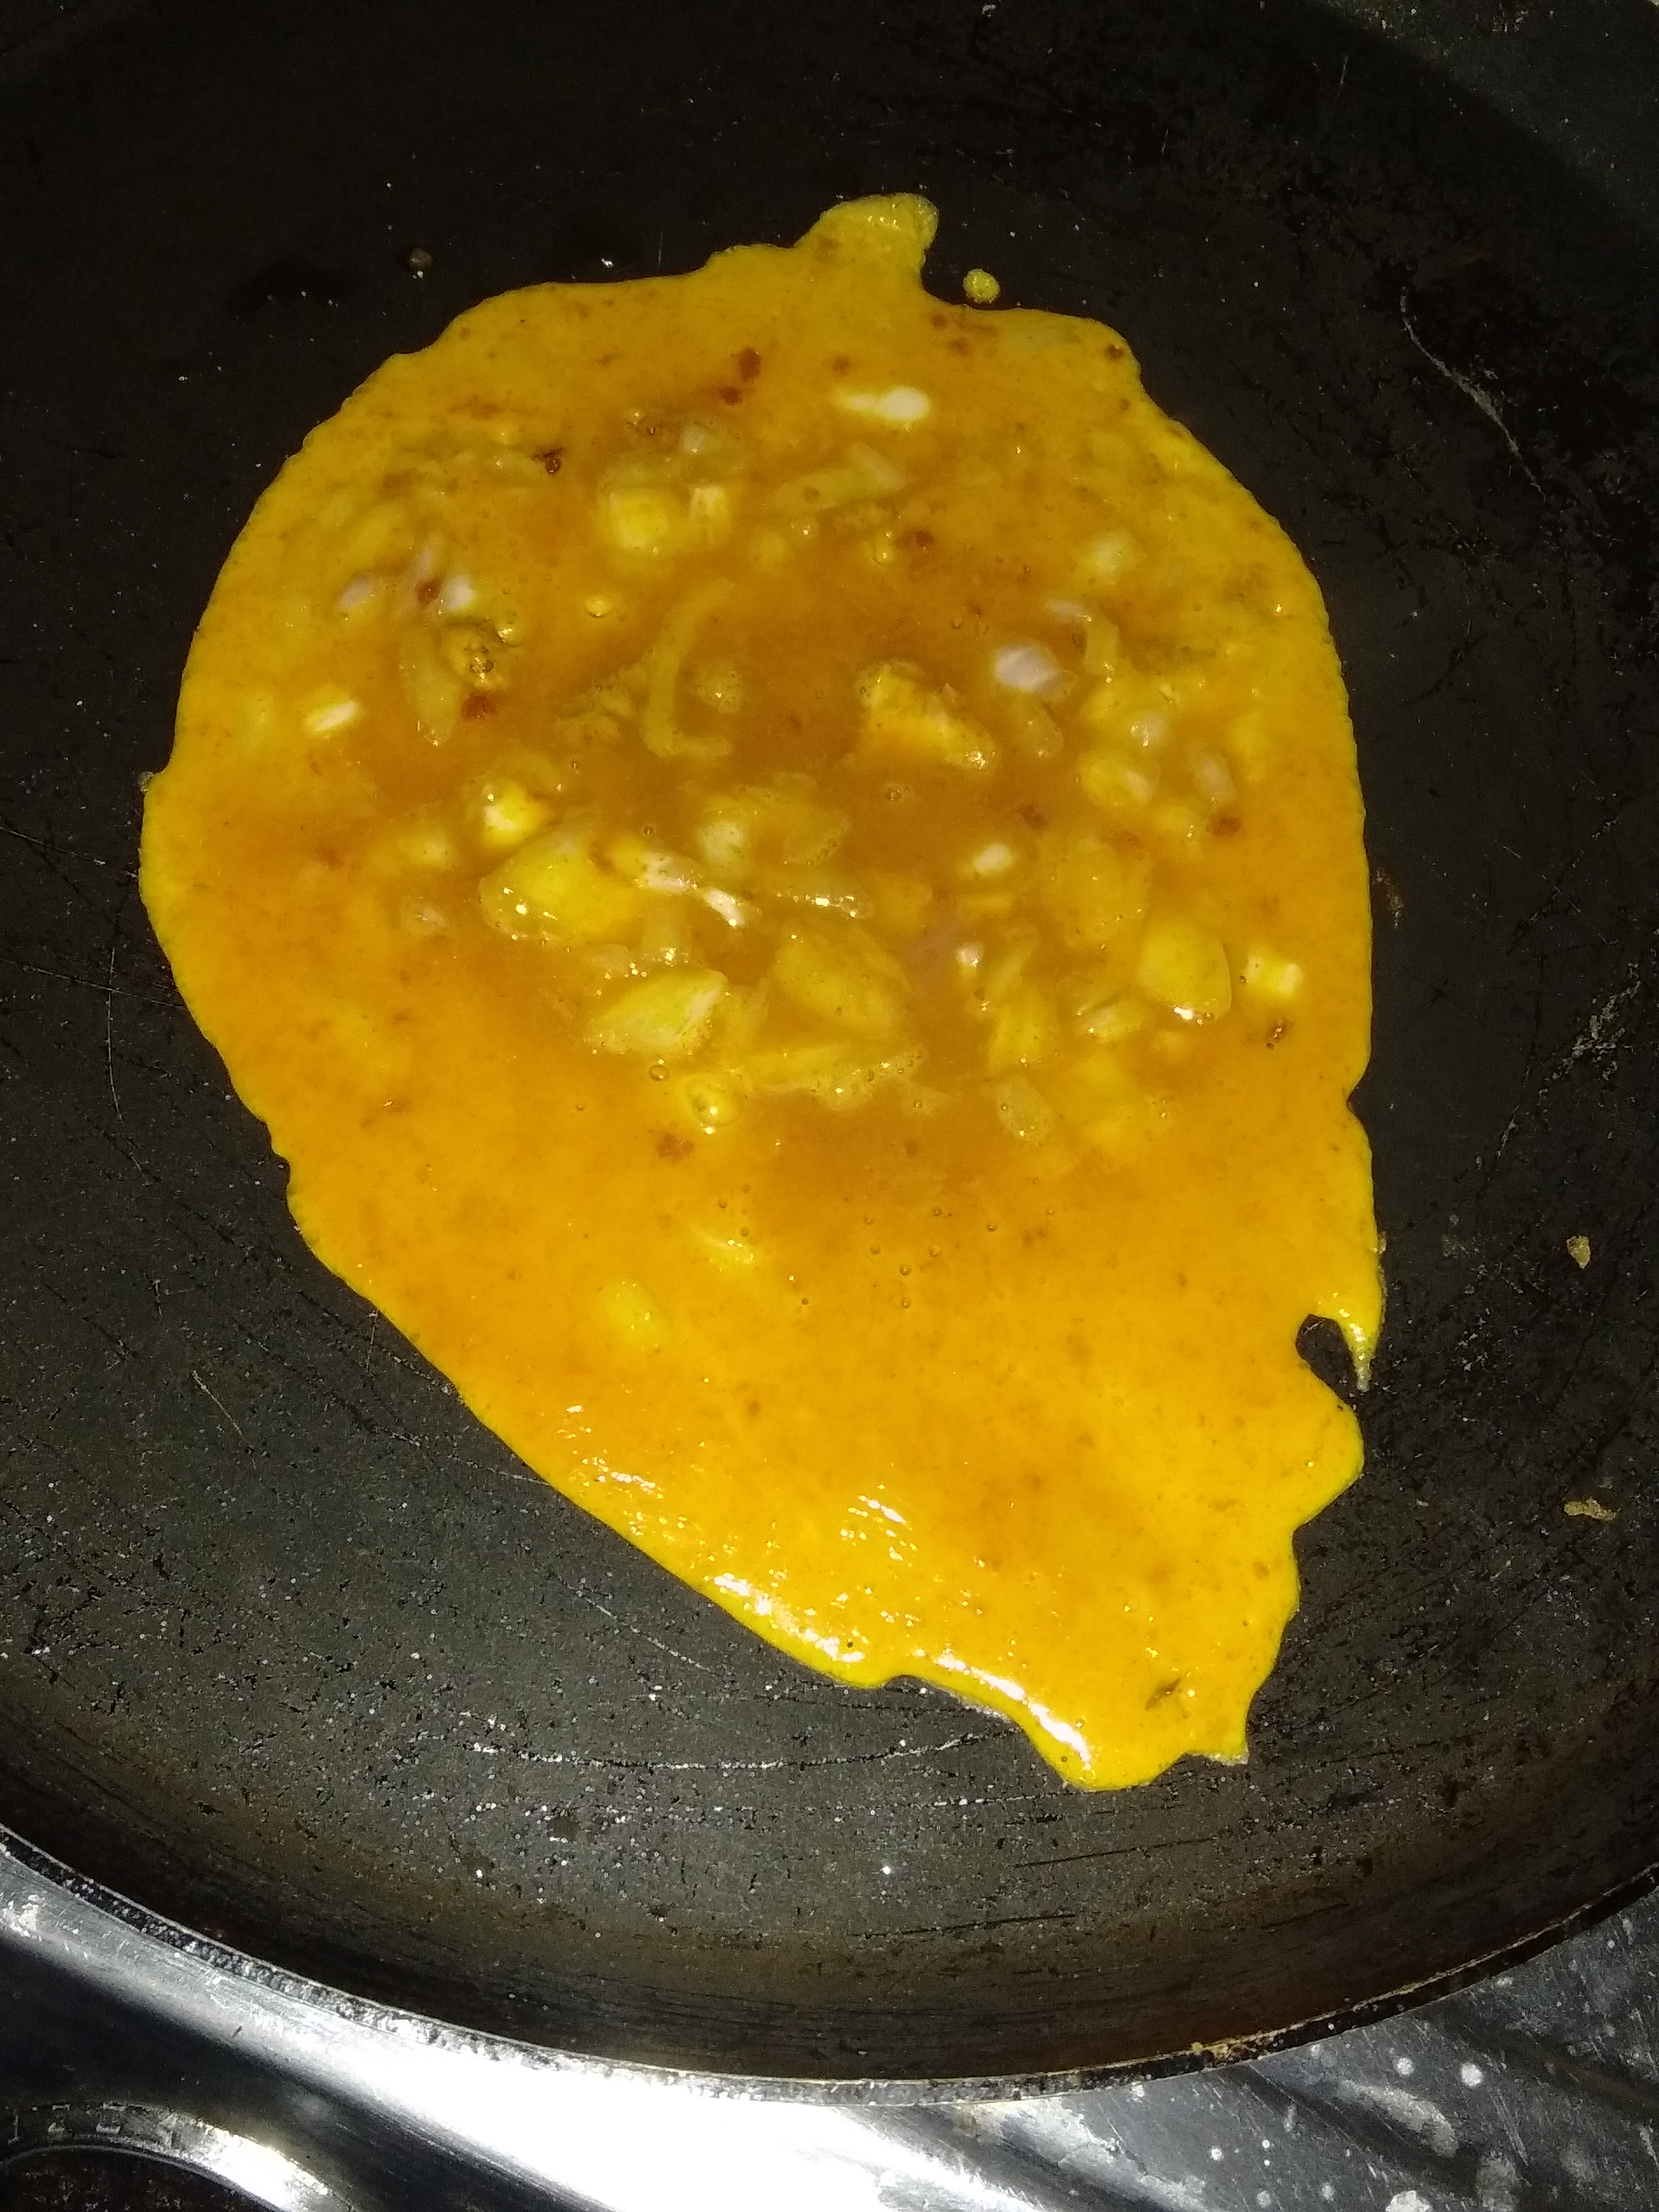food: (125, 183, 1412, 1801)
